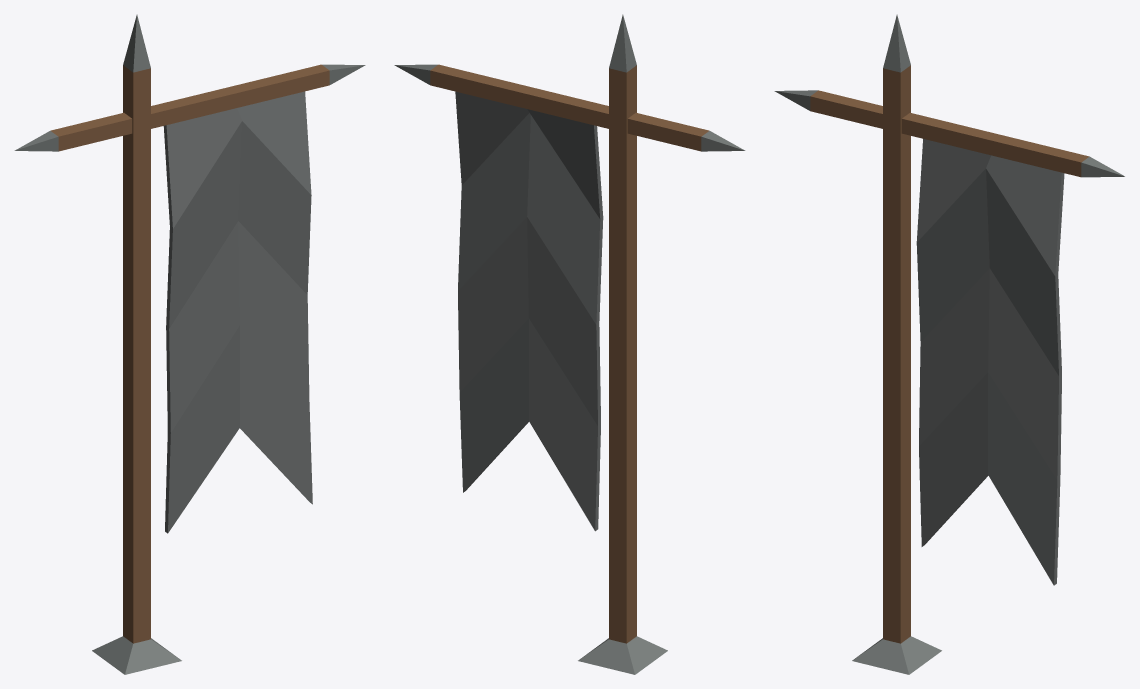
Rendered from Banner_2_Gray.fbx.
3 renders of one model, left to right at view 1: azimuth 30°, elevation 25°; view 2: azimuth 150°, elevation 25°; view 3: azimuth 330°, elevation 25°, orthographic.
Parts seen in each view (by area): view 1: Banner_2_Gray_Part_3, Banner_2_Gray_Part_1, Banner_2_Gray_Part_2; view 2: Banner_2_Gray_Part_3, Banner_2_Gray_Part_1, Banner_2_Gray_Part_2; view 3: Banner_2_Gray_Part_3, Banner_2_Gray_Part_1, Banner_2_Gray_Part_2.
Part boxes in pixels (bbox=[...]): Banner_2_Gray_Part_3: bbox=[163, 91, 312, 533]; Banner_2_Gray_Part_1: bbox=[50, 64, 329, 643]; Banner_2_Gray_Part_2: bbox=[14, 14, 365, 674]; Banner_2_Gray_Part_3: bbox=[455, 91, 603, 531]; Banner_2_Gray_Part_1: bbox=[430, 64, 709, 643]; Banner_2_Gray_Part_2: bbox=[394, 14, 745, 674]; Banner_2_Gray_Part_3: bbox=[916, 139, 1064, 585]; Banner_2_Gray_Part_1: bbox=[810, 65, 1089, 643]; Banner_2_Gray_Part_2: bbox=[774, 14, 1124, 674].
Bounding box in the file's own units: 172 × 300 × 28.14.
